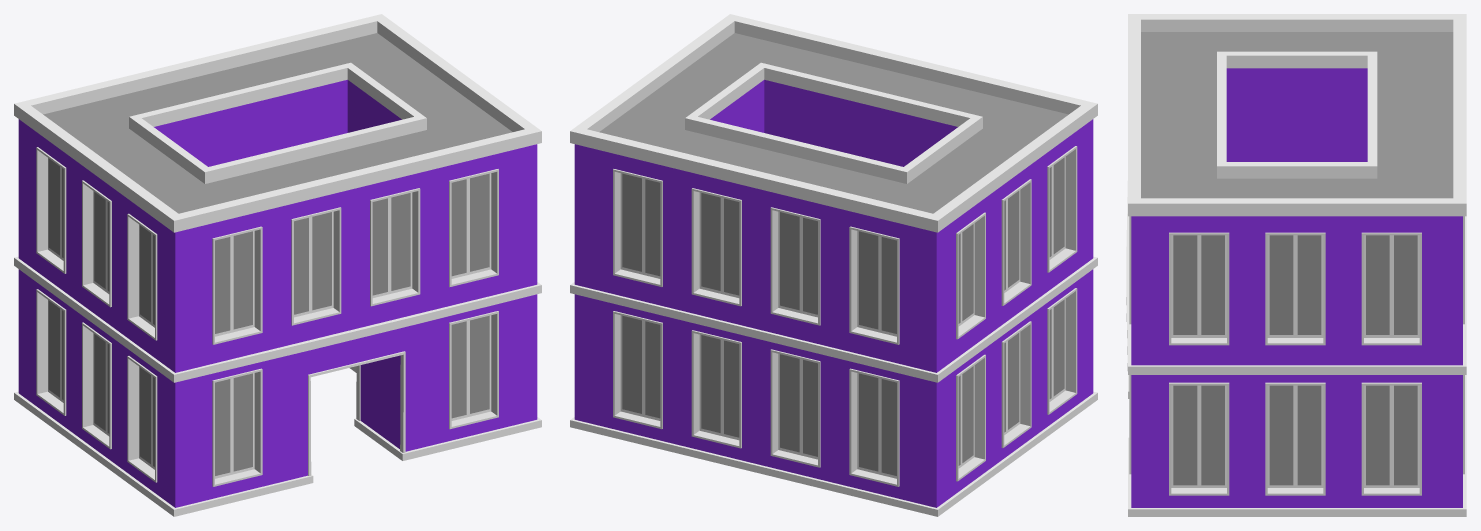
Rendered from SM_House_22_04.FBX.
The picture shows the model from 3 angles, left to right: view 1: azimuth 30°, elevation 25°; view 2: azimuth 150°, elevation 25°; view 3: azimuth 270°, elevation 25°; orthographic projection. The views are drawn at different scales.
Parts seen in each view (by area): view 1: SM_House_22_04; view 2: SM_House_22_04; view 3: SM_House_22_04.
Boxes of the visible parts, bbox=[...] form: SM_House_22_04: bbox=[14, 14, 541, 516]; SM_House_22_04: bbox=[570, 14, 1097, 516]; SM_House_22_04: bbox=[1126, 14, 1466, 516].
Size of the model in its own units: 8.12 by 6.25 by 6.15.
1 material, 1 textured.
